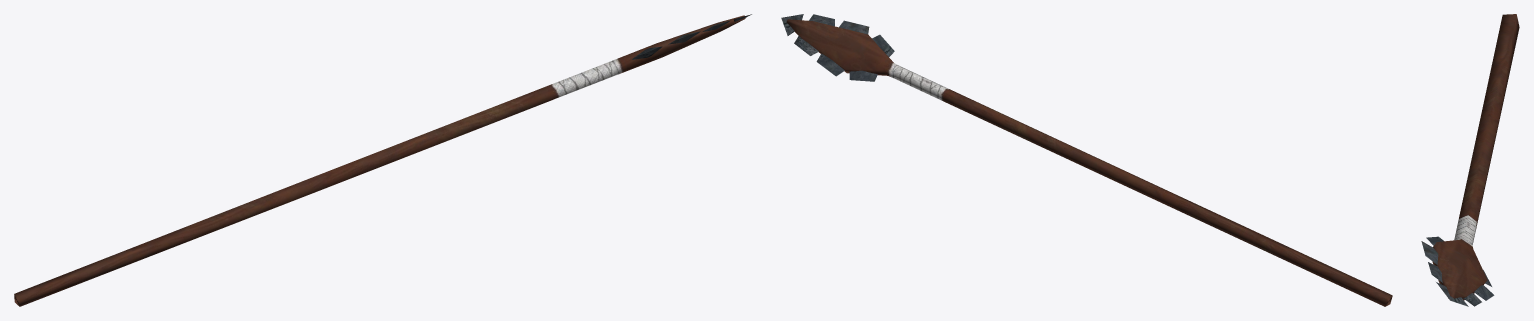
The model's file is rider-weapon-slice-flintweapons.glb.
3 renders of one model, left to right at view 1: azimuth 90°, elevation 25°; view 2: azimuth 210°, elevation 25°; view 3: azimuth 330°, elevation 25°, orthographic. The views are drawn at different scales.
Bounding box in the file's own units: 0.9371 × 0.3832 × 1.82.
1 material, 1 textured.
